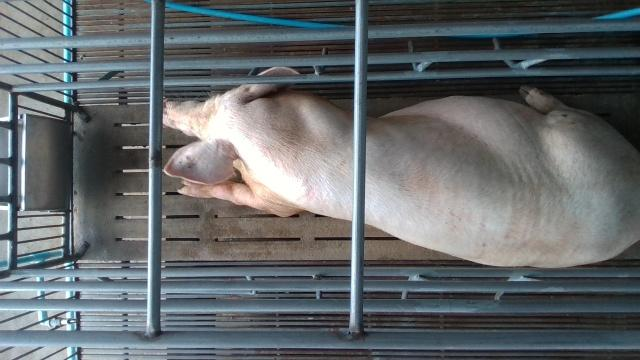sow-sit: (163, 67, 640, 266)
